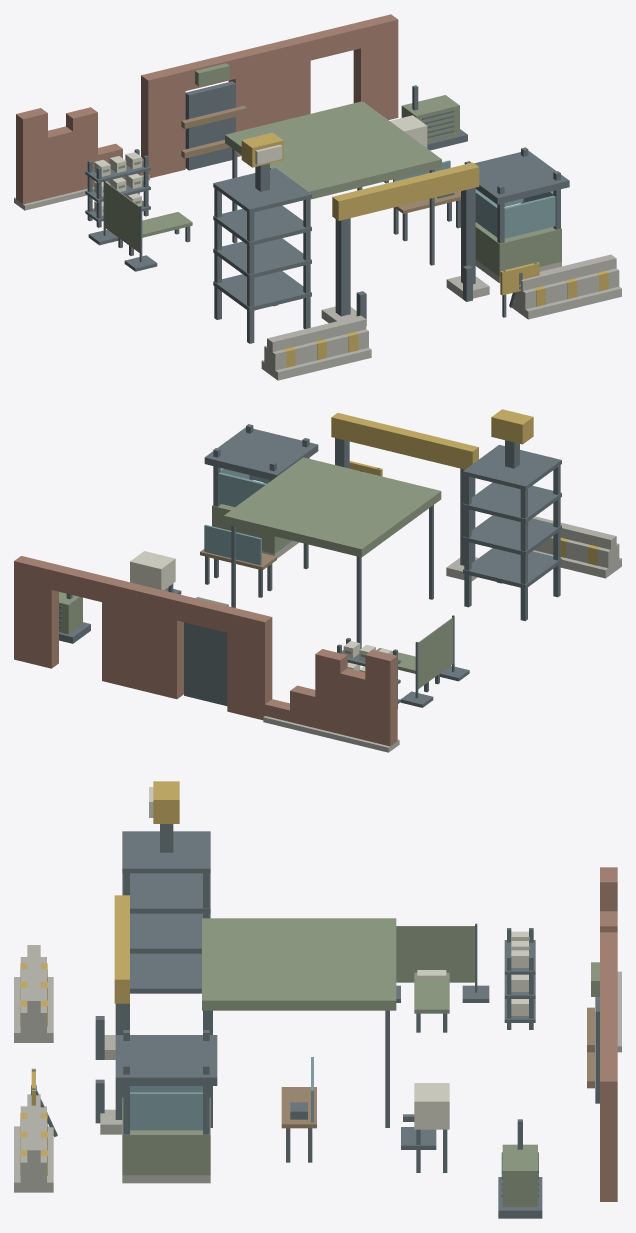
The model's file is zombie-quarantine-streets-checkpoint-to--057ebfe4-starter-scene.glb.
3 views of the same model, one above another, from view 1: azimuth 30°, elevation 25°; view 2: azimuth 150°, elevation 25°; view 3: azimuth 270°, elevation 25° (orthographic). The views are drawn at different scales.
Parts seen in each view (by area): view 1: 003-searchlight-tower/0, 001-inspection-canopy/1, 008-doorway-shell/0, 006-safehouse-facade/0, 007-fractured-wall-left/1, 004-concrete-jersey-barrier/0, 005-concrete-jersey-barrier/0, 002-guard-booth/1, 000-checkpoint-gate/2, 000-checkpoint-gate/1, 006-safehouse-facade/1, 002-guard-booth/2 (+20 smaller); view 2: 001-inspection-canopy/1, 003-searchlight-tower/0, 006-safehouse-facade/0, 008-doorway-shell/0, 007-fractured-wall-left/1, 002-guard-booth/1, 000-checkpoint-gate/2, 006-safehouse-facade/1, 004-concrete-jersey-barrier/0, 010-triage-screen/1, 001-inspection-canopy/0, 014-document-counter/2 (+11 smaller); view 3: 001-inspection-canopy/1, 003-searchlight-tower/0, 002-guard-booth/1, 002-guard-booth/2, 010-triage-screen/1, 008-doorway-shell/0, 002-guard-booth/3, 004-concrete-jersey-barrier/0, 005-concrete-jersey-barrier/0, 013-diesel-generator/1, 011-medical-supply-rack/0, 000-checkpoint-gate/2 (+16 smaller).
Boxes of the visible parts, box(x1,y1,x2,y2) form: 003-searchlight-tower/0: box(213, 163, 311, 343); 001-inspection-canopy/1: box(225, 101, 441, 199); 008-doorway-shell/0: box(266, 14, 398, 122); 006-safehouse-facade/0: box(141, 45, 273, 178); 007-fractured-wall-left/1: box(16, 107, 143, 204); 004-concrete-jersey-barrier/0: box(261, 315, 371, 380); 005-concrete-jersey-barrier/0: box(512, 254, 621, 319); 002-guard-booth/1: box(464, 147, 569, 243); 000-checkpoint-gate/2: box(332, 162, 479, 220); 000-checkpoint-gate/1: box(335, 187, 475, 325); 006-safehouse-facade/1: box(185, 81, 235, 170); 002-guard-booth/2: box(475, 222, 561, 276); 001-inspection-canopy/1: box(223, 457, 441, 557); 003-searchlight-tower/0: box(463, 440, 561, 621); 006-safehouse-facade/0: box(139, 586, 272, 720); 008-doorway-shell/0: box(14, 556, 146, 689); 007-fractured-wall-left/1: box(265, 649, 397, 746); 002-guard-booth/1: box(204, 424, 318, 506); 000-checkpoint-gate/2: box(331, 413, 478, 469); 006-safehouse-facade/1: box(184, 622, 227, 705); 004-concrete-jersey-barrier/0: box(532, 516, 621, 578); 010-triage-screen/1: box(418, 617, 453, 688); 001-inspection-canopy/0: box(231, 505, 433, 648); 014-document-counter/2: box(204, 524, 261, 565); 001-inspection-canopy/1: box(202, 918, 396, 1010); 003-searchlight-tower/0: box(122, 824, 210, 1029); 002-guard-booth/1: box(115, 1030, 217, 1134); 002-guard-booth/2: box(122, 1097, 210, 1175); 010-triage-screen/1: box(396, 926, 474, 982); 008-doorway-shell/0: box(600, 1007, 617, 1201); 002-guard-booth/3: box(130, 1086, 202, 1130); 004-concrete-jersey-barrier/0: box(14, 945, 53, 1042); 005-concrete-jersey-barrier/0: box(14, 1094, 53, 1192); 013-diesel-generator/1: box(502, 1144, 537, 1206); 011-medical-supply-rack/0: box(504, 928, 535, 1029); 000-checkpoint-gate/2: box(114, 895, 129, 1003).
Bounding box in the file's own units: 12.9 × 5.6 × 13.75.
